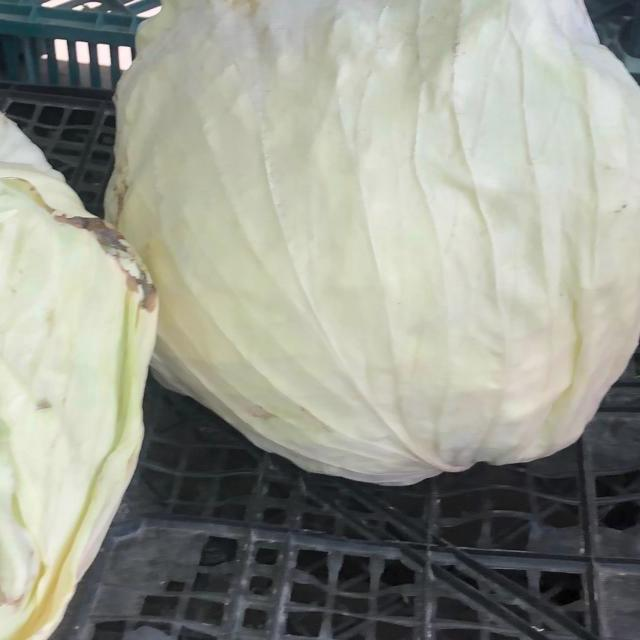cabbage: (85, 0, 640, 525), (0, 0, 177, 640)
